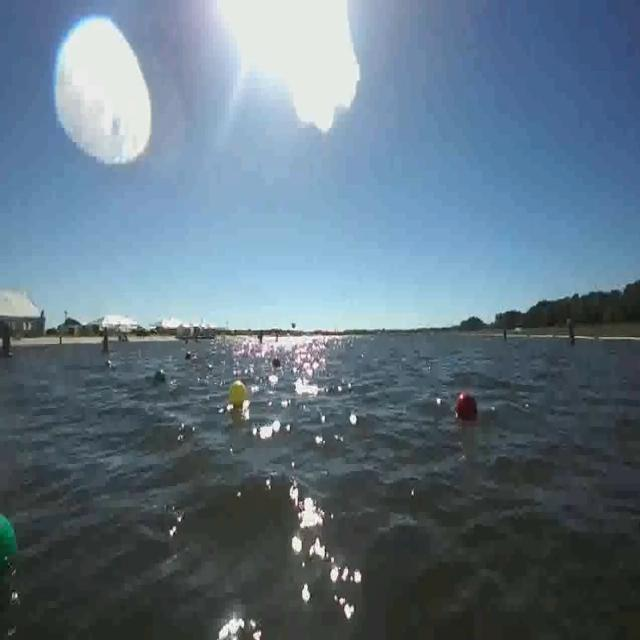green-buoy: (0, 511, 18, 572)
red-buoy: (455, 392, 478, 423)
yellow-buoy: (228, 376, 246, 406)
